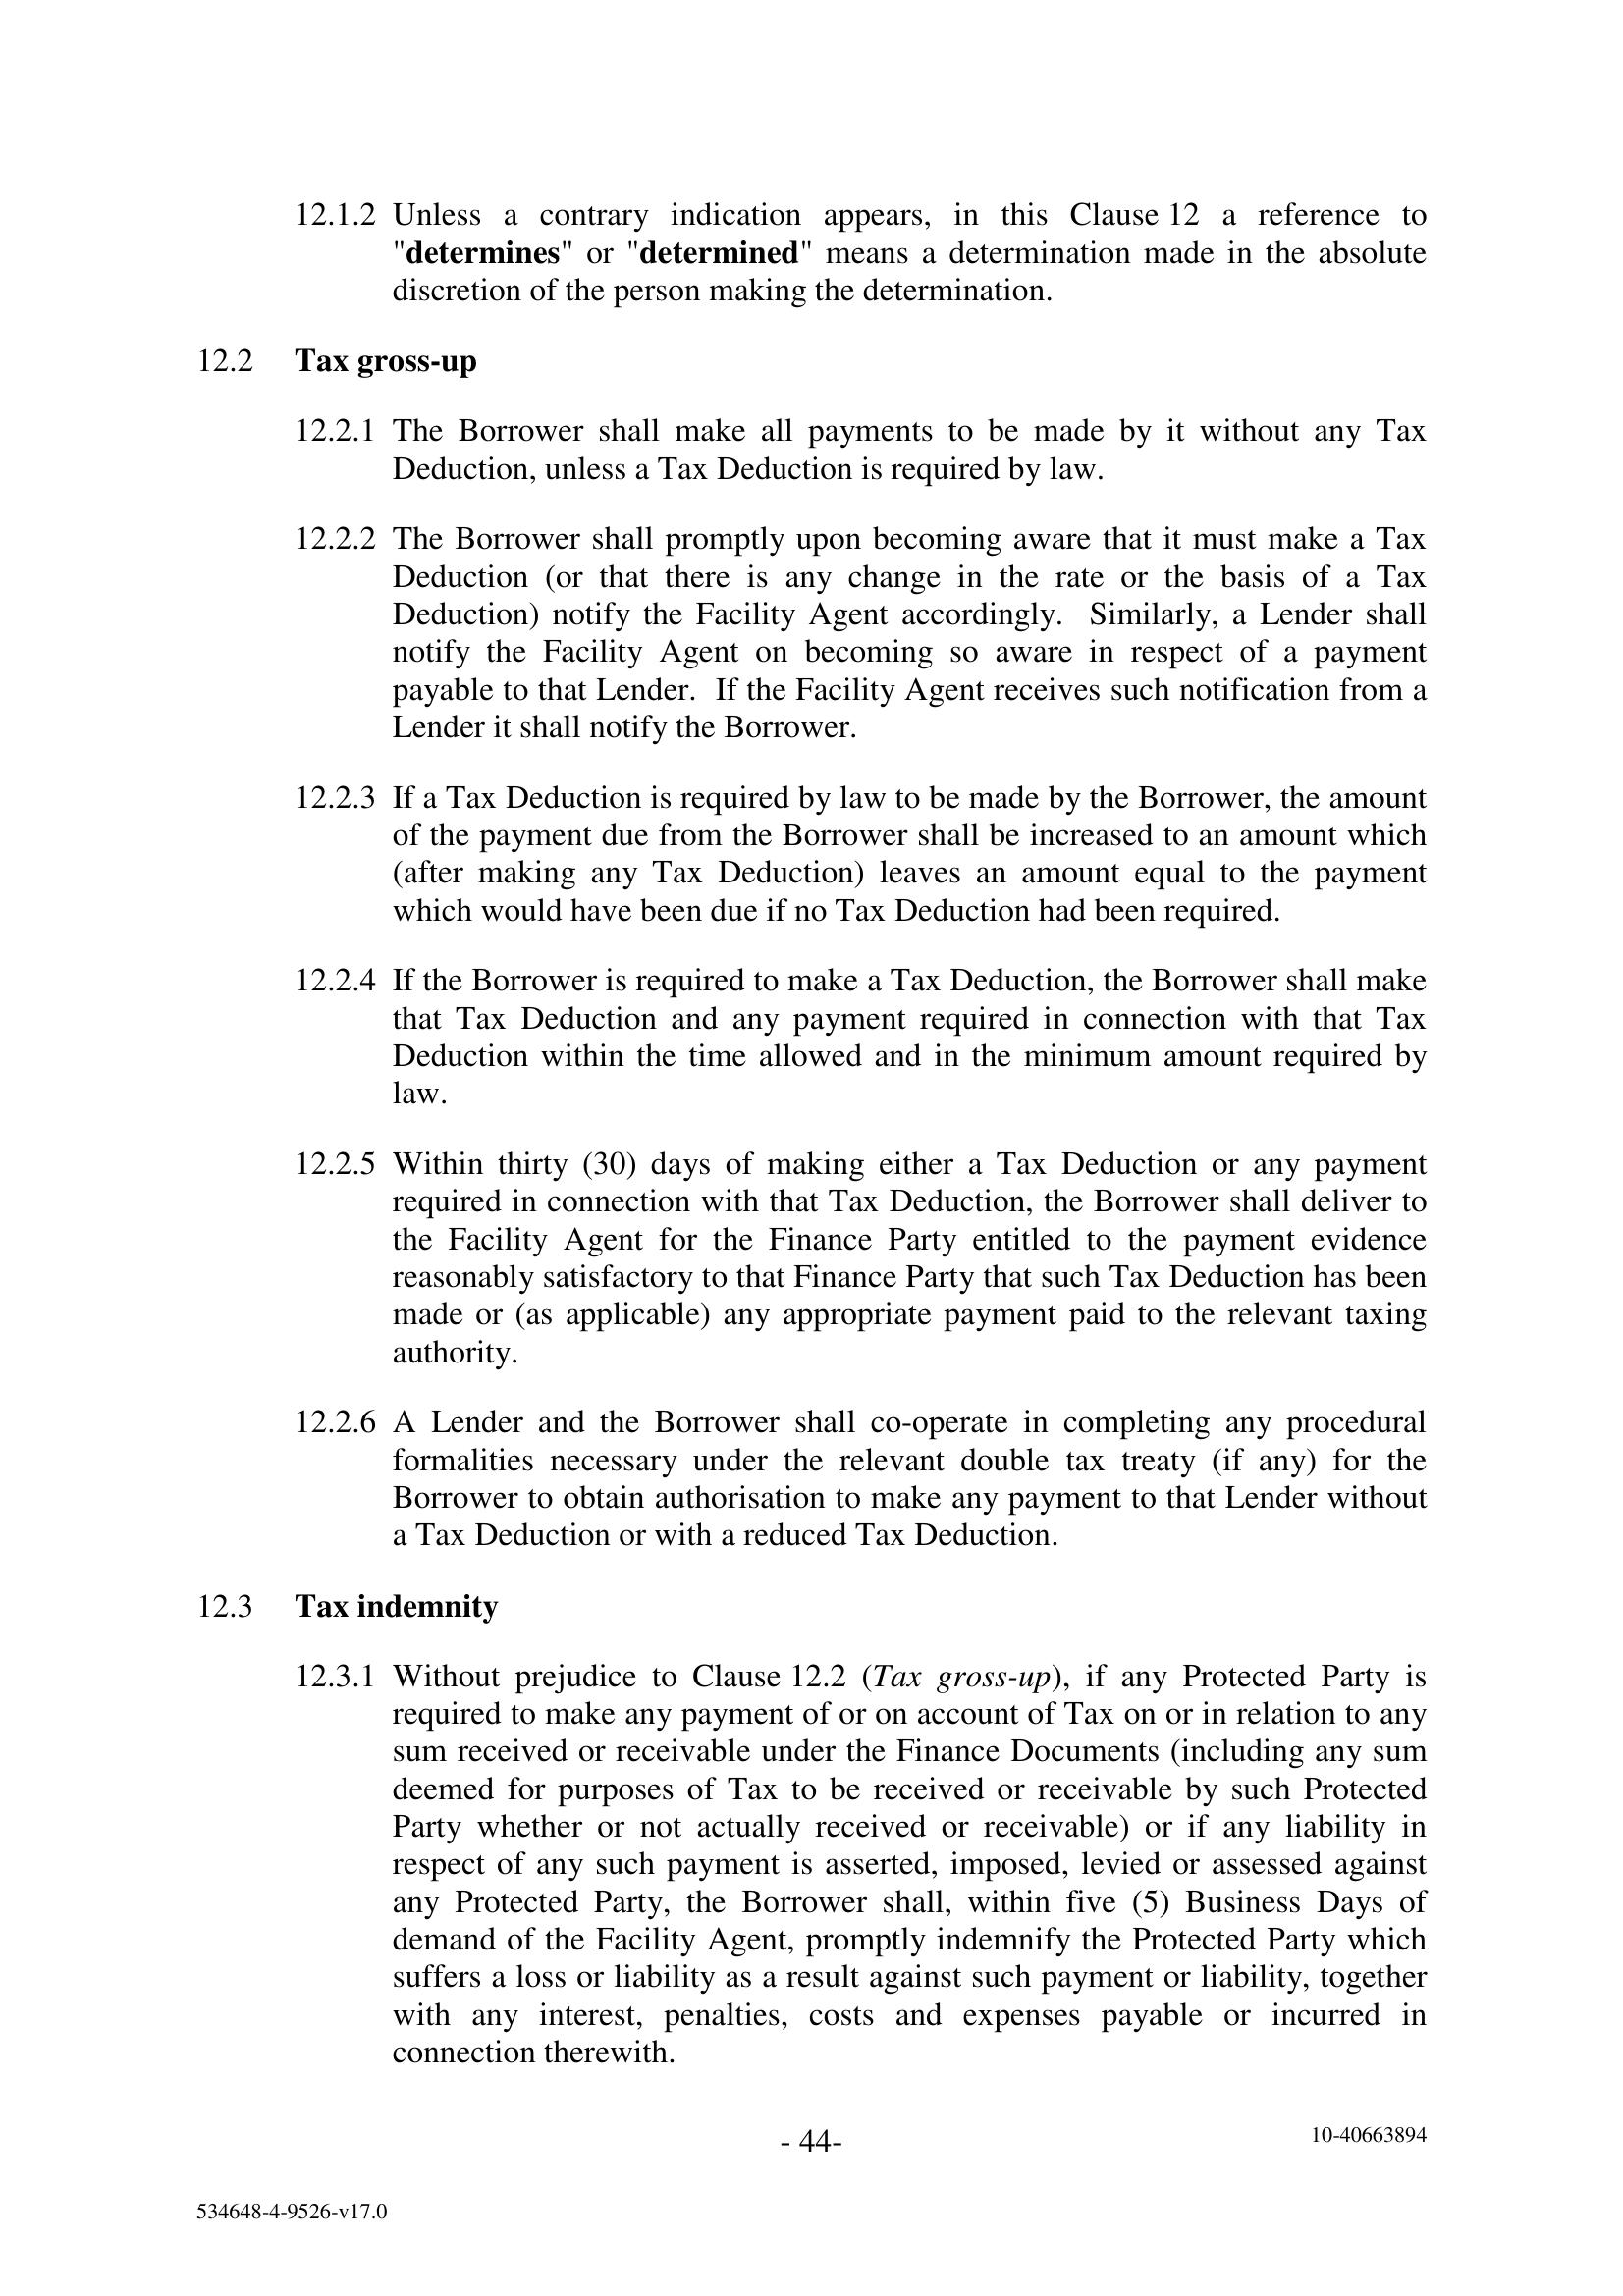pageno: (729, 2085, 892, 2208)
tag: (79, 2154, 480, 2278), (1214, 2091, 1523, 2184)
